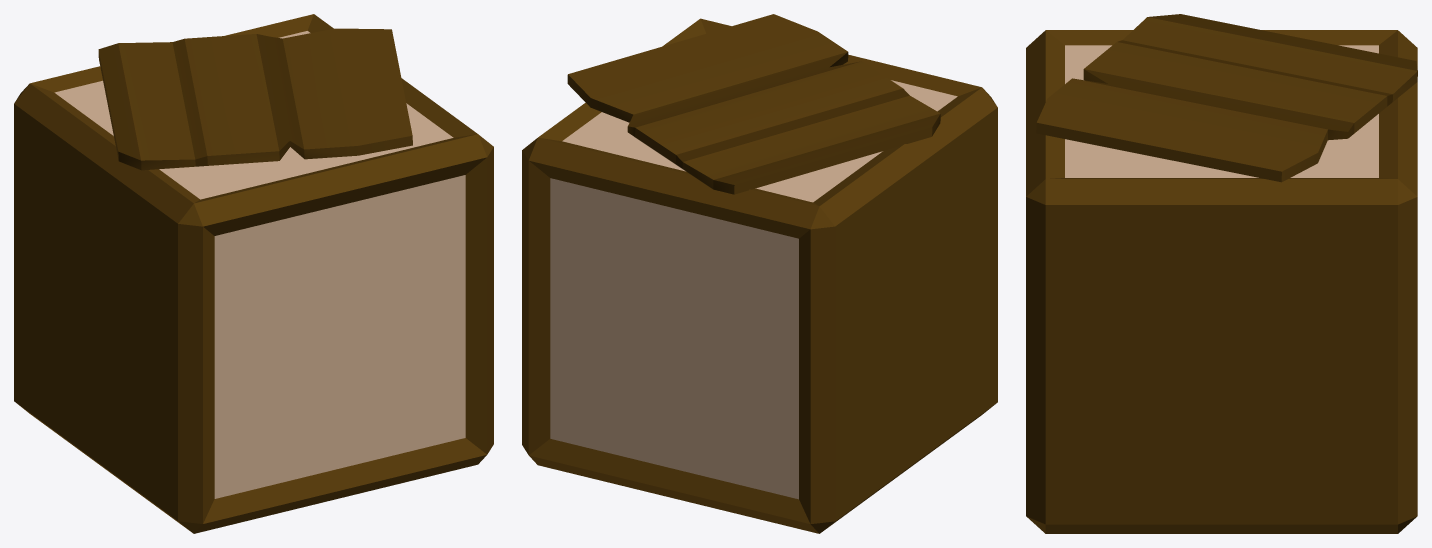
File: Wooden_Box&Plank.fbx
The picture shows the model from 3 angles, left to right: view 1: azimuth 30°, elevation 25°; view 2: azimuth 150°, elevation 25°; view 3: azimuth 270°, elevation 25°; orthographic projection. The views are drawn at different scales.
Visible parts, largest first — view 1: pCube7, pCube8; view 2: pCube7, pCube8; view 3: pCube7, pCube8.
Part boxes in pixels (x1=…): pCube7: x1=14, y1=14, x2=493, y2=533; pCube8: x1=98, y1=28, x2=412, y2=170; pCube7: x1=522, y1=18, x2=997, y2=533; pCube8: x1=567, y1=14, x2=940, y2=194; pCube7: x1=1026, y1=30, x2=1417, y2=533; pCube8: x1=1036, y1=14, x2=1417, y2=182.
Bounding box in the file's own units: 7.52 × 7.74 × 7.33.
